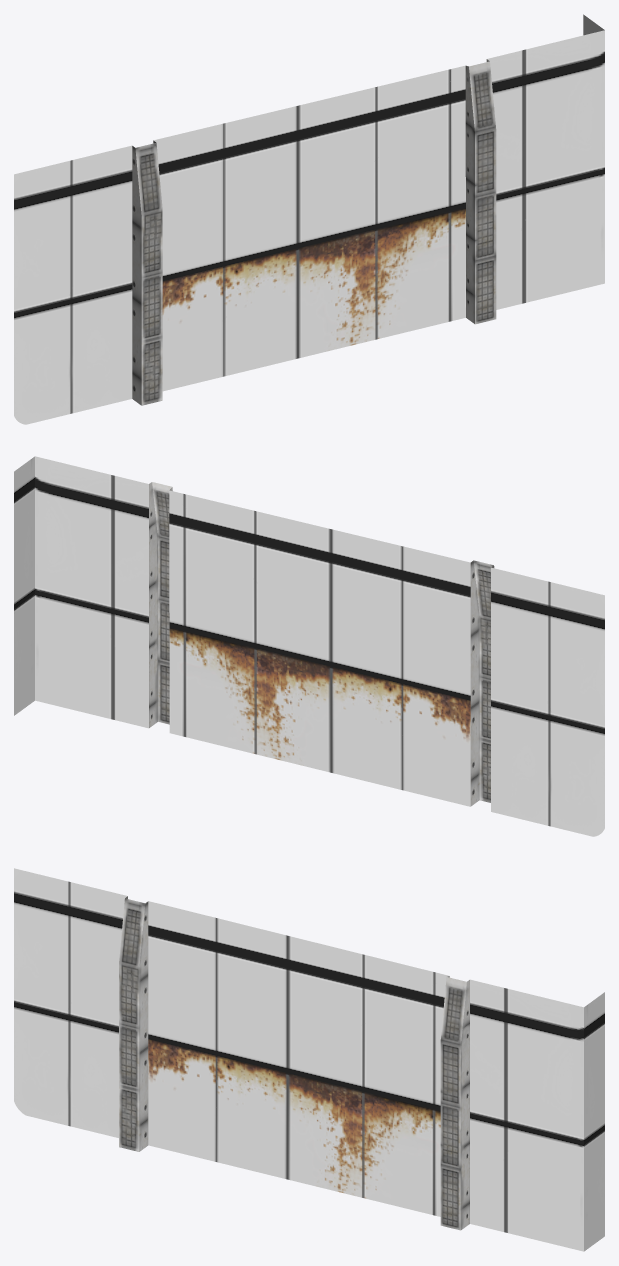
Rendered from ptoA17.obj.
3 views of the same model, one above another, from view 1: azimuth 30°, elevation 25°; view 2: azimuth 150°, elevation 25°; view 3: azimuth 330°, elevation 25° (orthographic). The views are drawn at different scales.
Visible parts, largest first — view 1: ptoA17; view 2: ptoA17; view 3: ptoA17.
Boxes of the visible parts, <box> form: ptoA17: <box>14,14,604,424</box>; ptoA17: <box>14,456,604,836</box>; ptoA17: <box>14,868,604,1251</box>.
Bounding box in the file's own units: 31.33 × 12.84 × 2.87.
